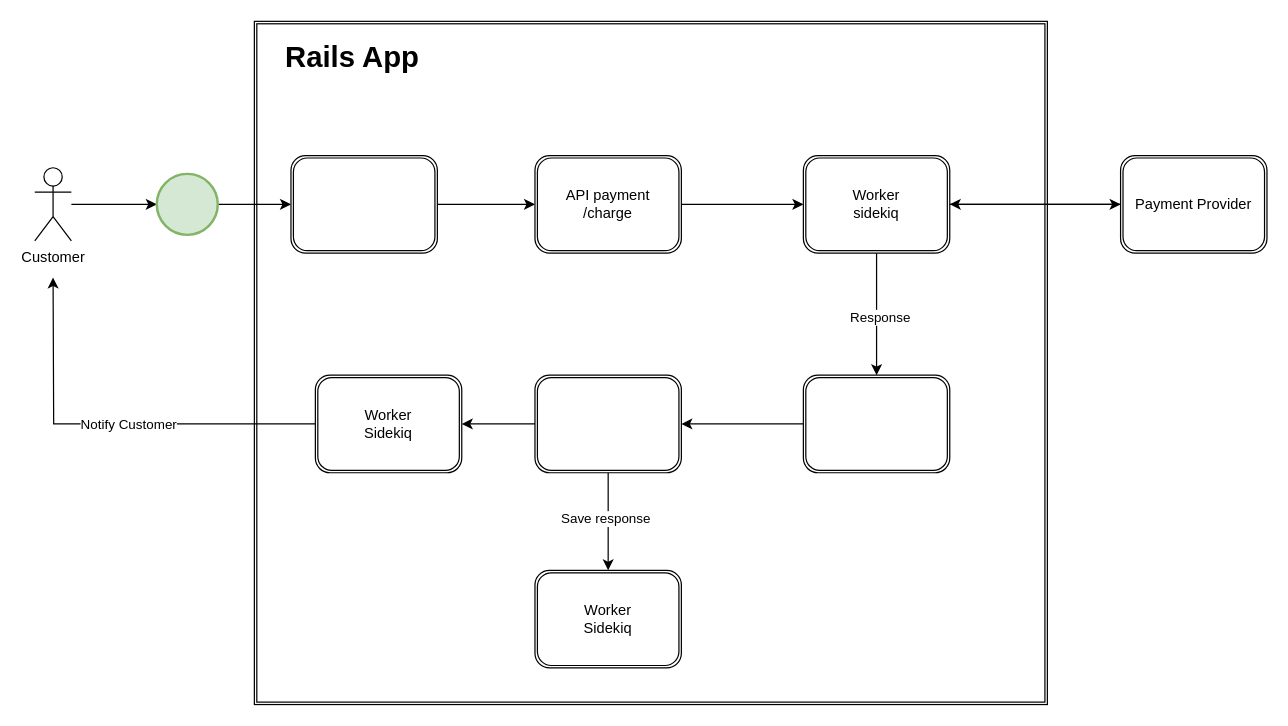
Some shapes in this 1288 by 726 pixel diagram are drawn without their labels. The shapes that lost their labels are listed below. From the top down, each one's centre as x and y in pixels, then its label:
At (363,203): "Authentication".
At (607,423): "AWS Consumer".
At (876,423): "AWS SQS".
